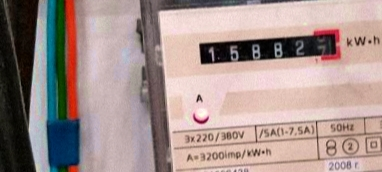1: (206, 44, 217, 62)
2: (294, 38, 306, 56)
5: (228, 44, 240, 61)
7: (316, 44, 328, 55)
8: (249, 42, 262, 59), (272, 40, 284, 58)
screen: (191, 25, 347, 73)
